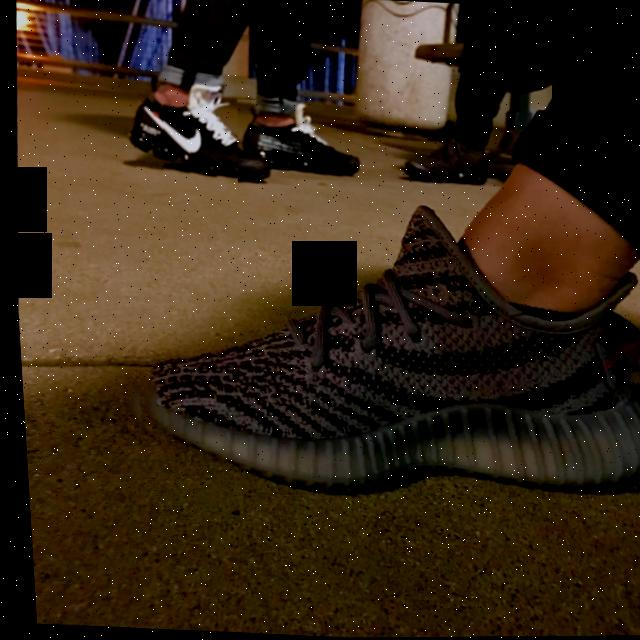shoe: (104, 179, 640, 515), (116, 69, 284, 193), (232, 99, 378, 191)
